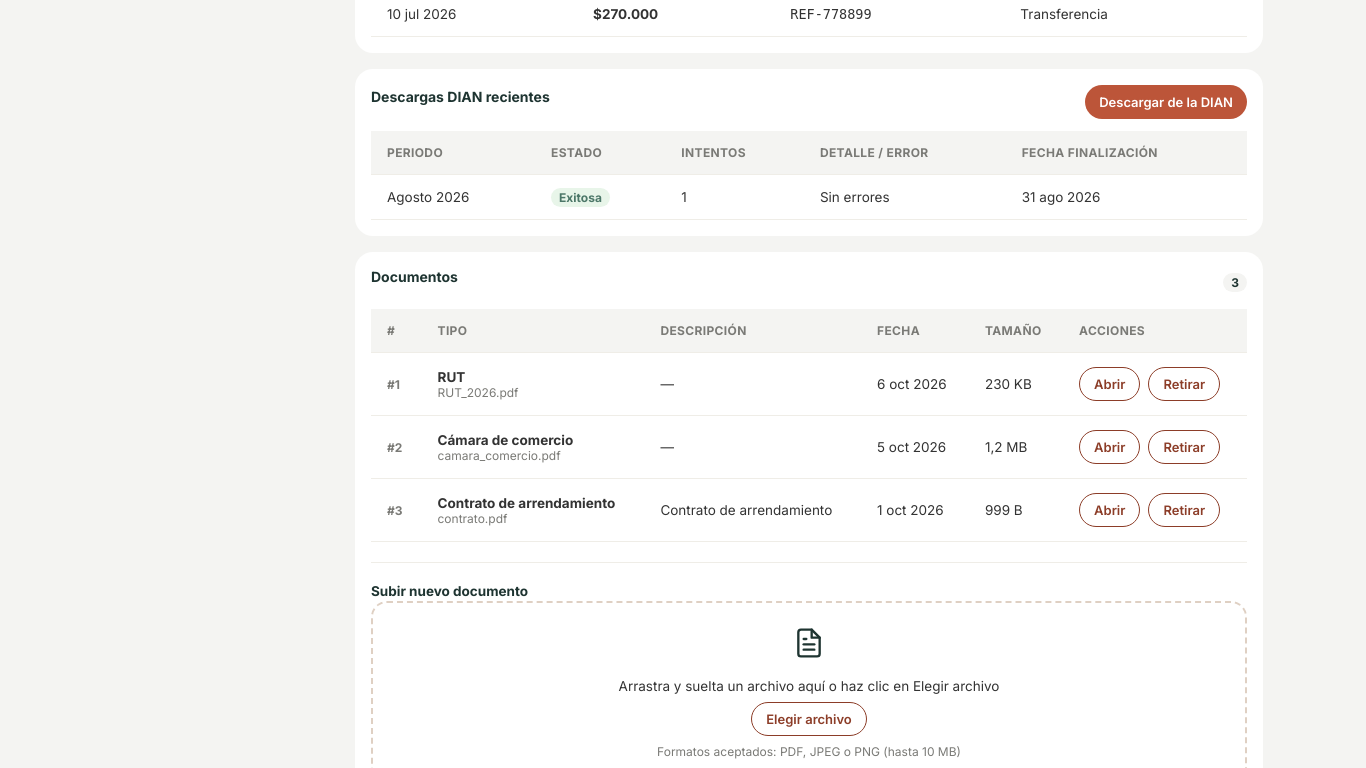
Test: Story 8.7: Panel admin — documentos y operación DIAN › Documentos en la ficha (AC #1) › retirar documento: muestra diálogo de confirmación previa y recarga la lista al confirmar
The width and height of the screenshot is (1366, 768).
(page scrolled)
// Botón Retirar para el primer documento
Step 1. Click the button with aria-label "Retirar RUT" → (1184, 384), box [1148,367,1220,401]
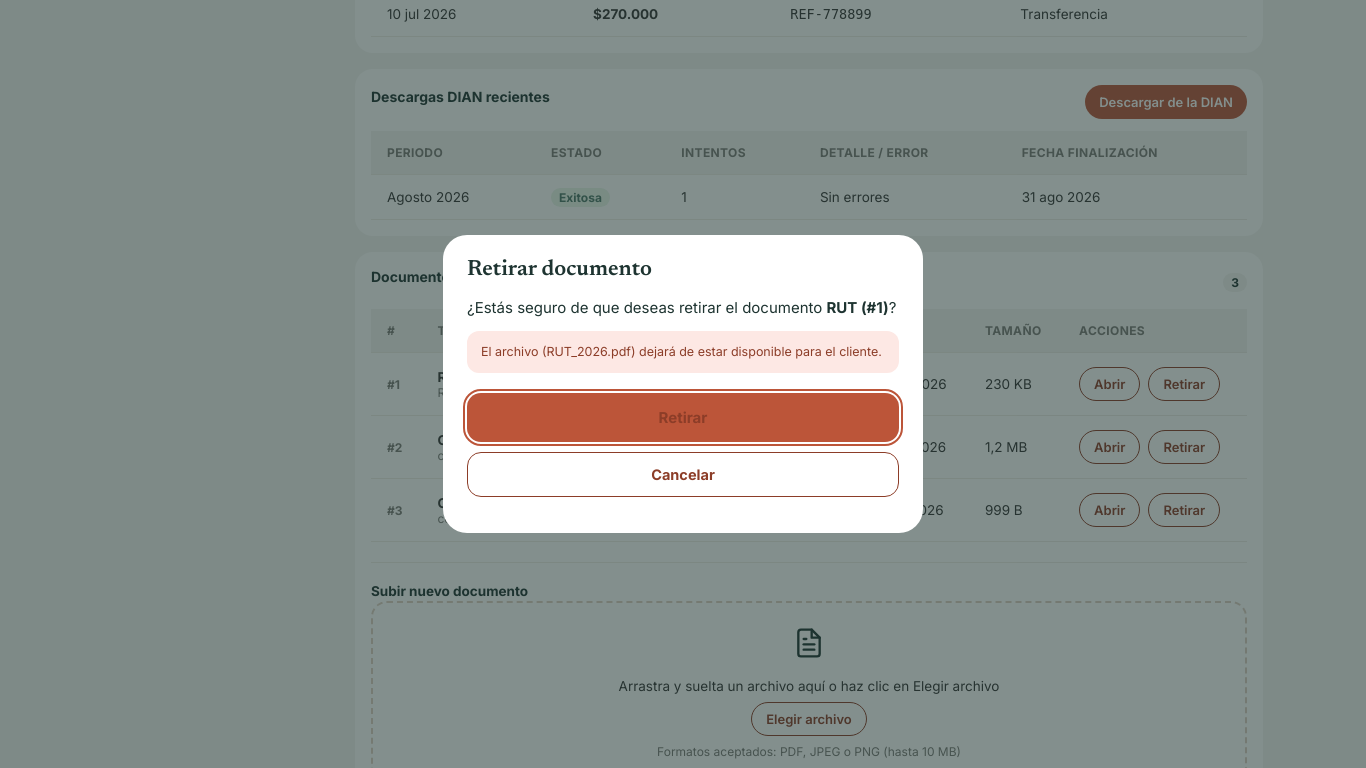
Result: the dialog "Retirar documento" is shown at [443,235,923,533]
Result: the text "¿Estás seguro de que deseas retirar el documento RUT (#1)?" is shown at [467,297,899,319]
// Confirmar retiro
Step 2. Click the button "Retirar" → (683, 418), box [467,393,899,442]
(page scrolled)
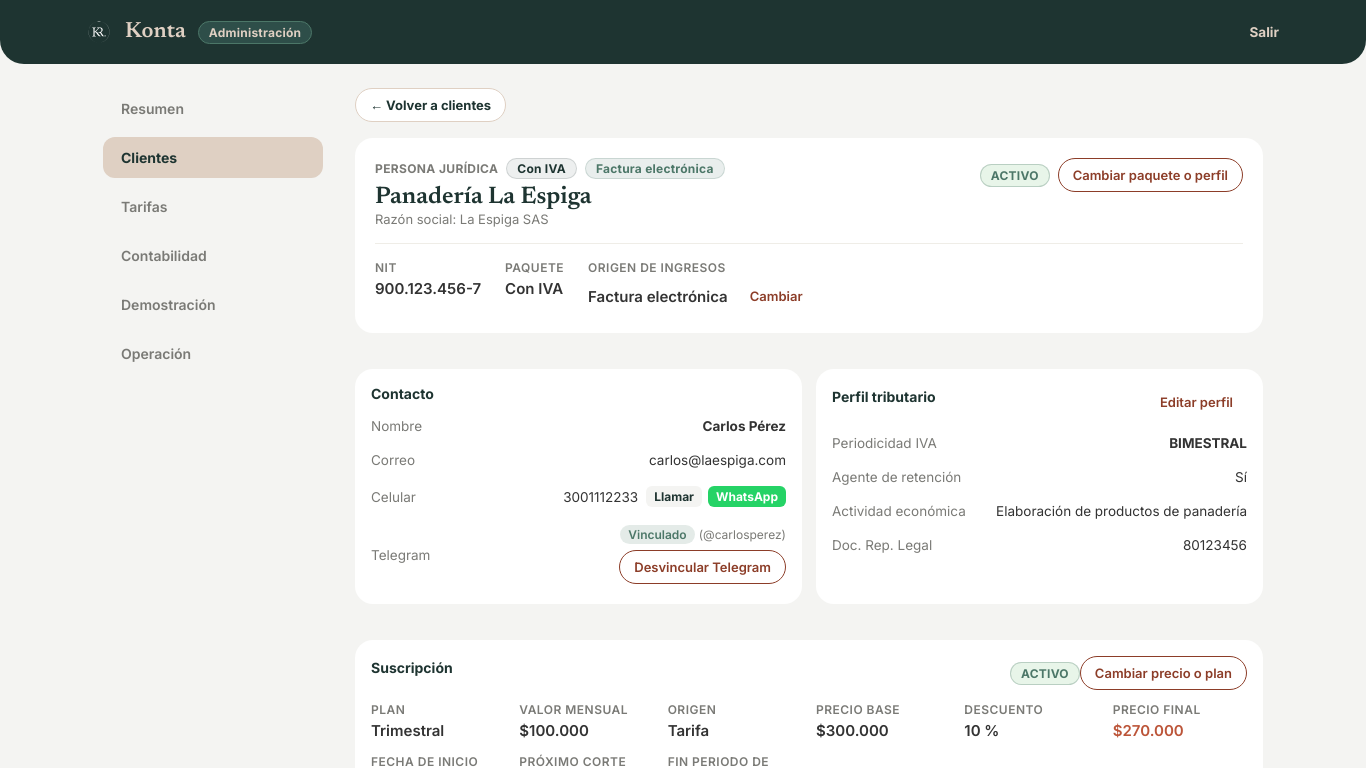
Result: the dialog is gone
Result: the text "RUT_2026.pdf" is gone
